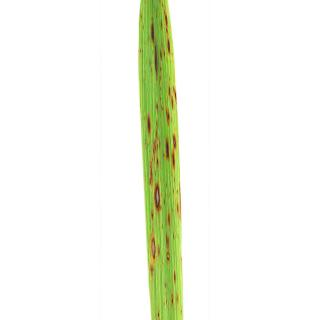bercak-Cokelat: (162, 131, 186, 167), (161, 11, 178, 59), (168, 86, 186, 110), (150, 49, 164, 78), (147, 18, 158, 46), (156, 180, 164, 213), (147, 156, 155, 188), (164, 106, 176, 126), (143, 110, 152, 136), (151, 233, 159, 260)
